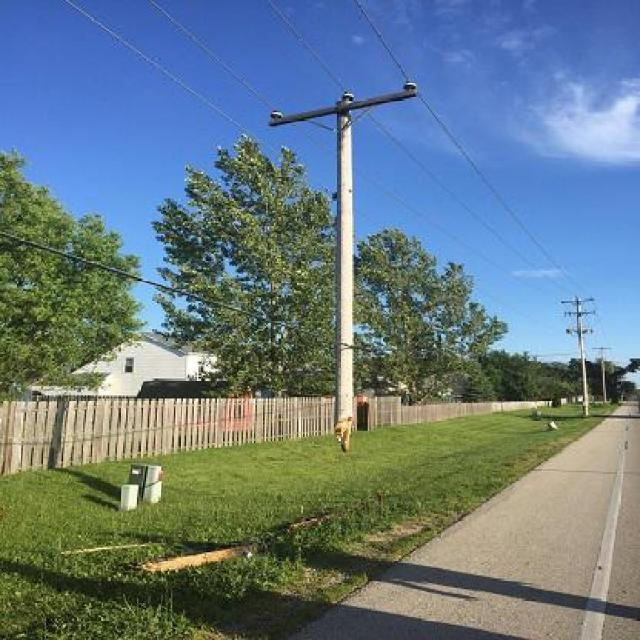pole: (266, 77, 422, 435), (551, 287, 603, 418)
